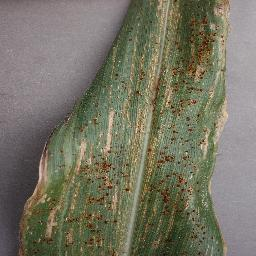Gray_Leaf_Spot: (45, 0, 233, 140), (15, 140, 230, 256)
